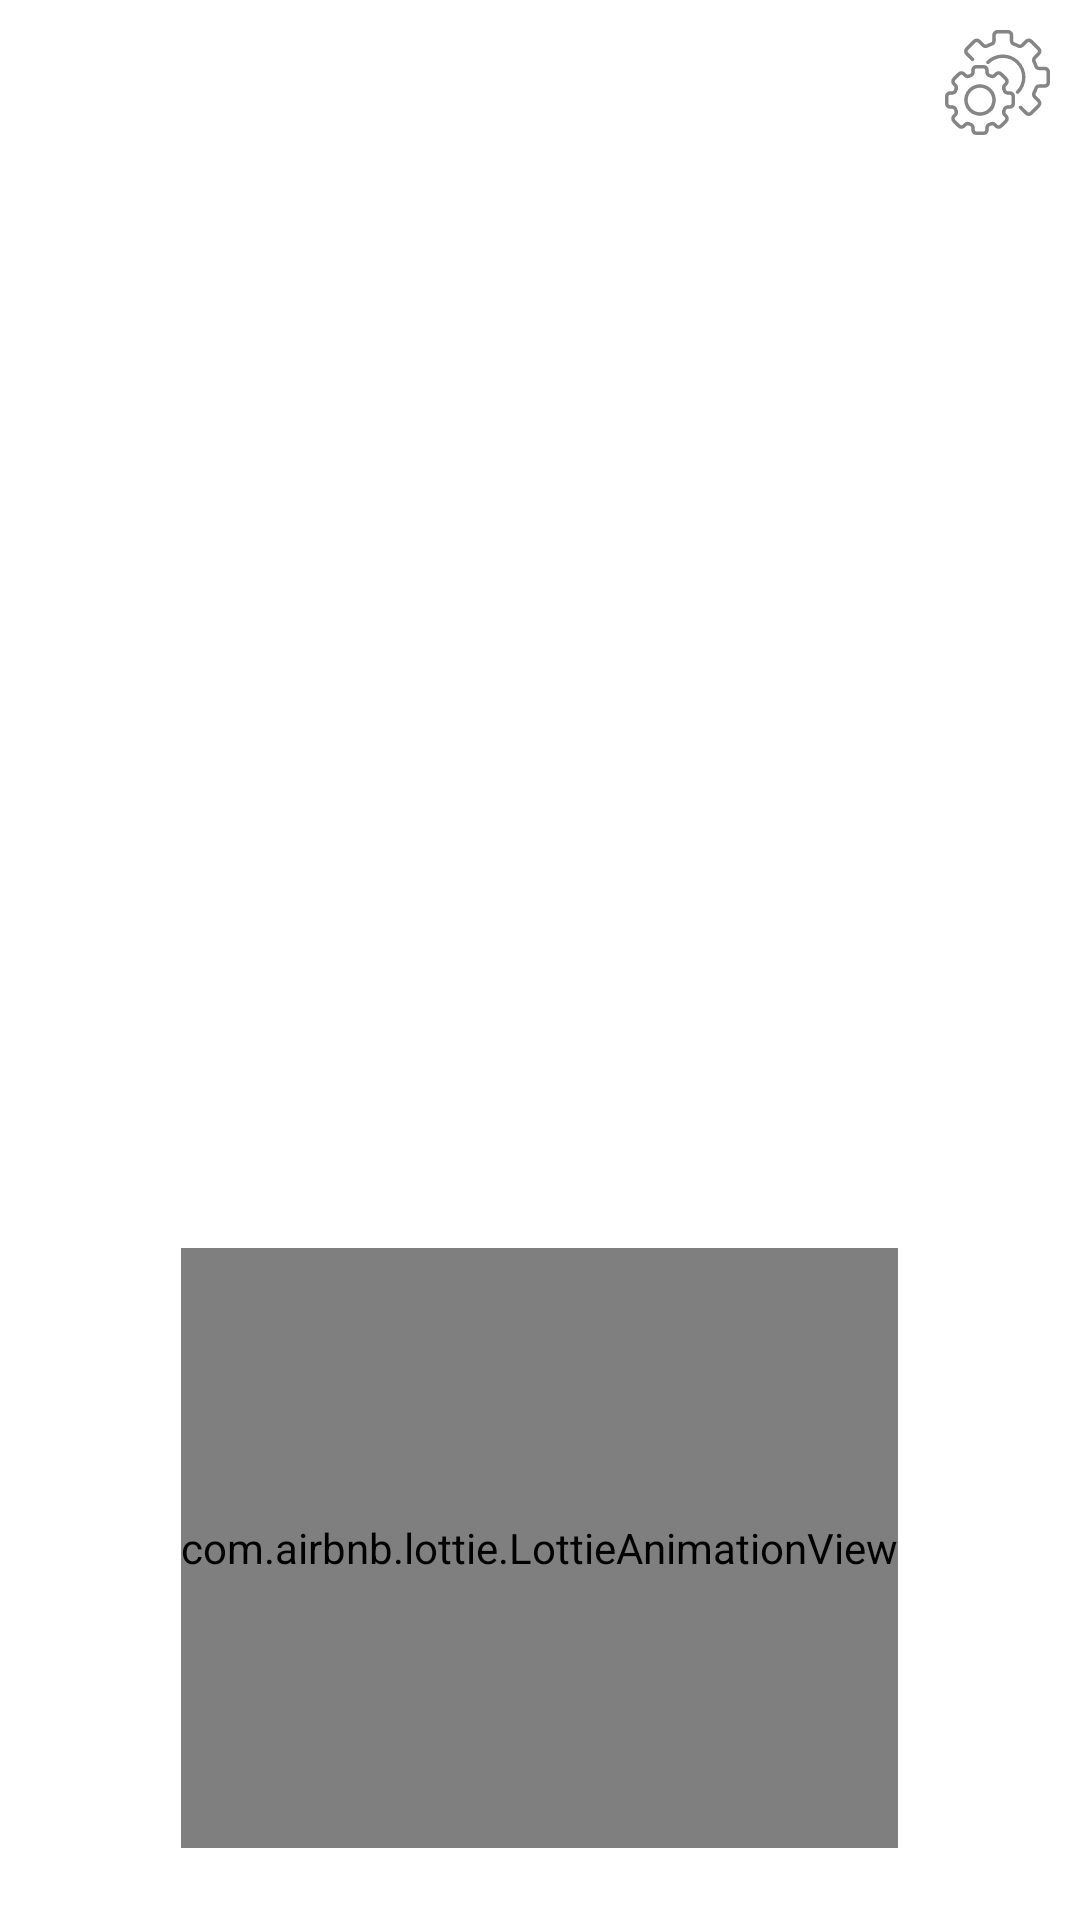

Where to tap for icons on this 1080*1920 app screen, as (x=x, y=y):
settings: (x=997, y=82)
